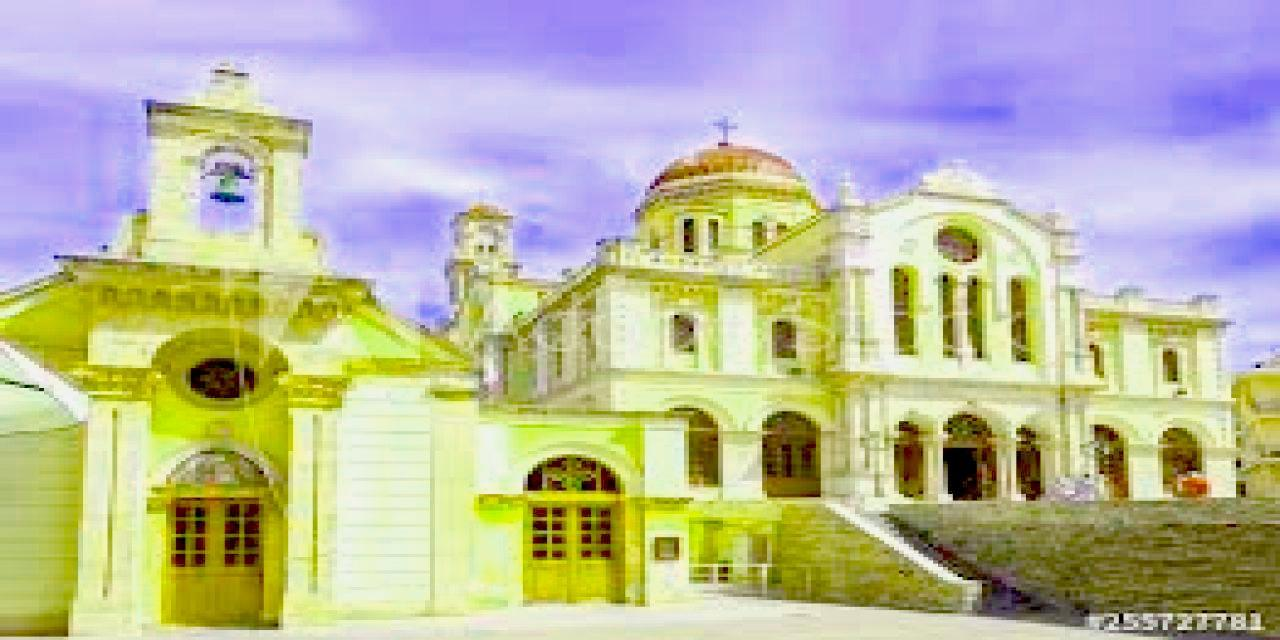Agios Minas: (1, 46, 1280, 632)
